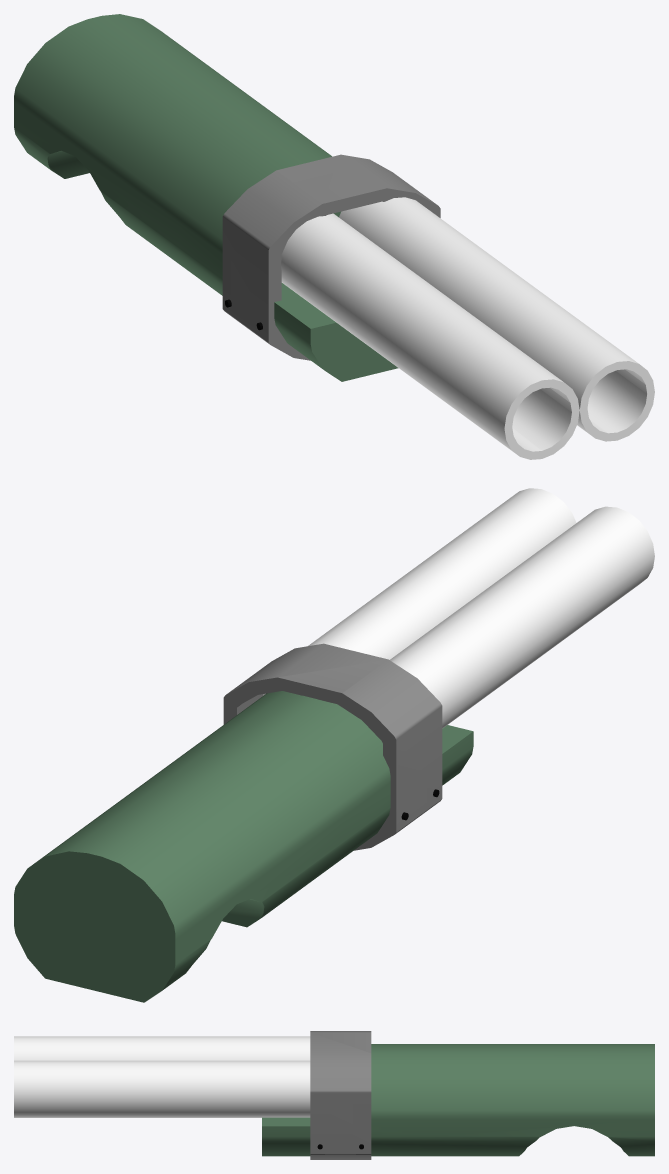
The model's file is ショットガン.fbx.
3 views of the same model, one above another, from view 1: azimuth 30°, elevation 25°; view 2: azimuth 150°, elevation 25°; view 3: azimuth 270°, elevation 25° (orthographic). The views are drawn at different scales.
Visible parts, largest first — view 1: polySurface2, pCylinder5, pasted__pCylinder5, pCylinder9; view 2: polySurface2, pCylinder5, pCylinder9, pasted__pCylinder5; view 3: polySurface2, pasted__pCylinder5, pCylinder9, pCylinder5.
Part boxes in pixels (x1=…): polySurface2: x1=14, y1=14, x2=398, y2=381; pCylinder5: x1=281, y1=213, x2=579, y2=459; pasted__pCylinder5: x1=339, y1=197, x2=654, y2=441; pCylinder9: x1=222, y1=154, x2=440, y2=360; polySurface2: x1=14, y1=691, x2=473, y2=1002; pCylinder5: x1=390, y1=506, x2=654, y2=728; pCylinder9: x1=223, y1=643, x2=442, y2=850; pasted__pCylinder5: x1=263, y1=488, x2=576, y2=695; polySurface2: x1=262, y1=1044, x2=654, y2=1156; pasted__pCylinder5: x1=14, y1=1060, x2=310, y2=1117; pCylinder9: x1=310, y1=1031, x2=371, y2=1159; pCylinder5: x1=14, y1=1036, x2=310, y2=1060.
Bounding box in the file's own units: 0.0111 × 0.00945 × 0.0522.
